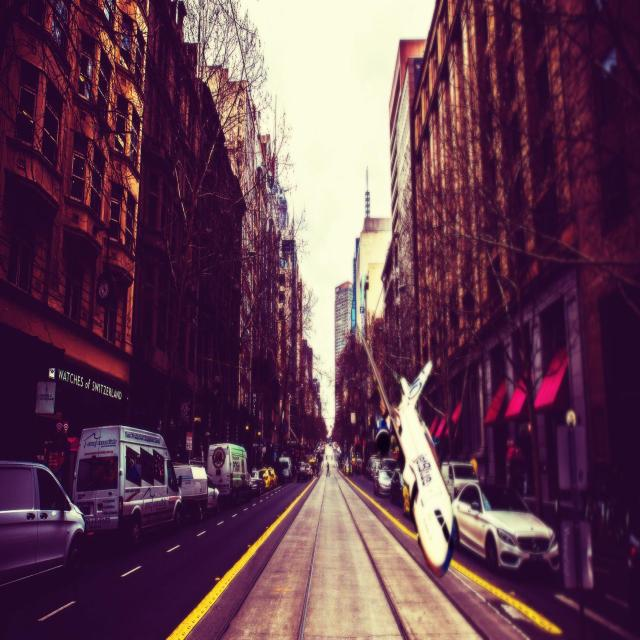airplane: (353, 322, 458, 576)
